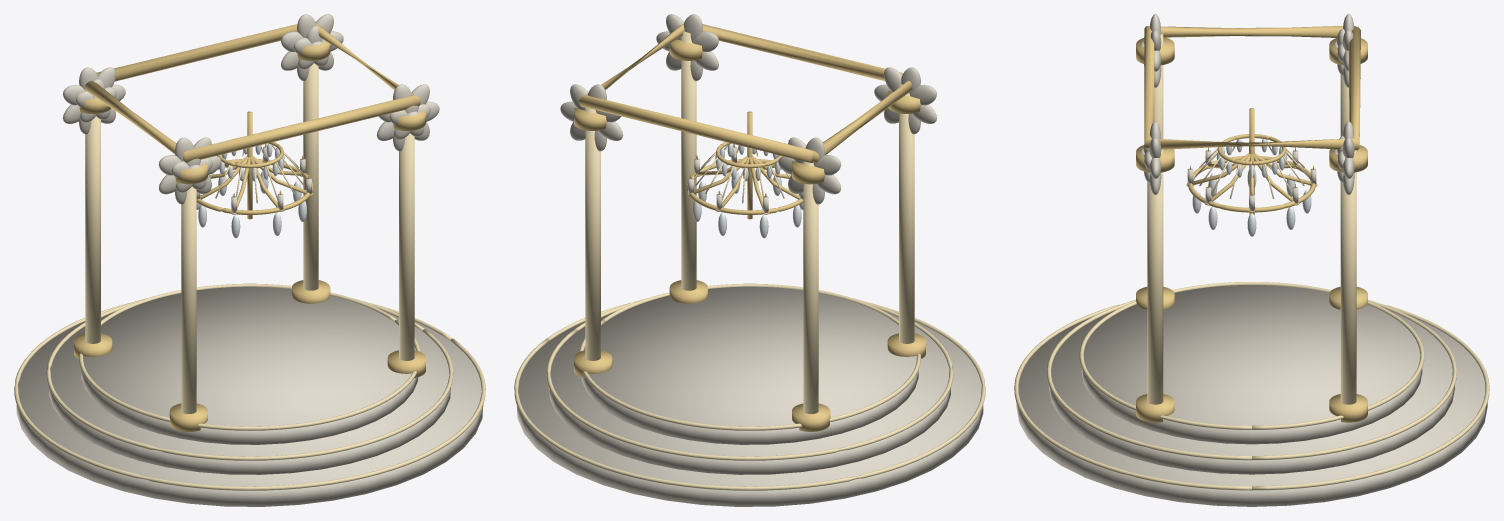
The model's file is mandap-pavilion.glb.
The picture shows the model from 3 angles, left to right: view 1: azimuth 30°, elevation 25°; view 2: azimuth 150°, elevation 25°; view 3: azimuth 270°, elevation 25°; orthographic projection.
Parts seen in each view (by area): view 1: stage-0, columns-2, gold-trims-1, petals-4, canopy-rim-6, capitals-3, frame-7, crystals-12, chains-13; view 2: stage-0, columns-2, gold-trims-1, canopy-rim-6, petals-4, capitals-3, frame-7, crystals-12, chains-13; view 3: stage-0, gold-trims-1, columns-2, canopy-rim-6, capitals-3, petals-4, frame-7, crystals-12, chains-13, wax-8.
Boxes of the visible parts, box(x1,y1,x2,y2) form: stage-0: box(16, 286, 483, 506); columns-2: box(85, 63, 414, 413); gold-trims-1: box(14, 283, 485, 490); petals-4: box(63, 14, 439, 204); canopy-rim-6: box(84, 21, 420, 163); capitals-3: box(74, 41, 425, 431); frame-7: box(196, 111, 313, 219); crystals-12: box(196, 143, 306, 238); chains-13: box(210, 145, 305, 203); stage-0: box(516, 286, 983, 506); columns-2: box(585, 31, 914, 413); gold-trims-1: box(514, 283, 985, 490); canopy-rim-6: box(579, 21, 920, 162); petals-4: box(560, 14, 936, 204); capitals-3: box(574, 39, 925, 431); frame-7: box(686, 111, 803, 219); crystals-12: box(693, 143, 803, 238); chains-13: box(694, 145, 789, 203); stage-0: box(1016, 285, 1487, 506); gold-trims-1: box(1014, 282, 1489, 490); columns-2: box(1147, 33, 1356, 404); canopy-rim-6: box(1144, 25, 1360, 150); capitals-3: box(1136, 37, 1367, 422); petals-4: box(1143, 14, 1354, 194); frame-7: box(1188, 108, 1315, 214); crystals-12: box(1192, 139, 1311, 236); chains-13: box(1195, 140, 1308, 198); wax-8: box(1187, 146, 1316, 211).
Bounding box in the file's own units: 3.93 × 3.07 × 3.93.
